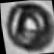correct: (2, 0, 54, 52)
